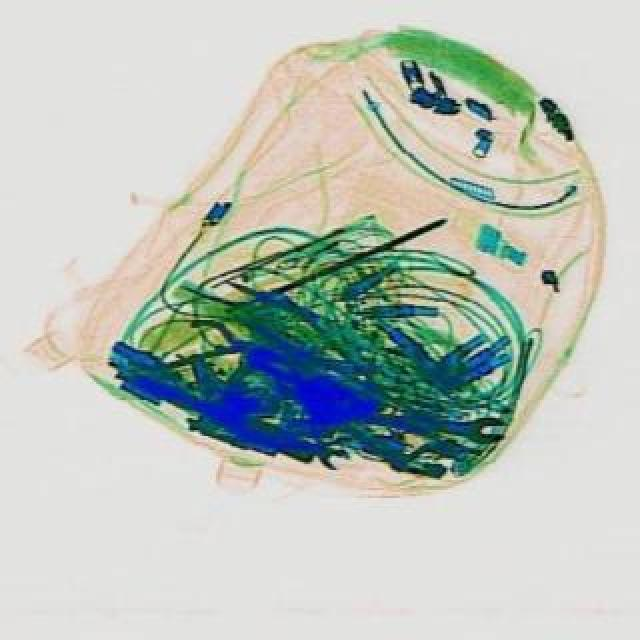scissors: (206, 402, 350, 474), (374, 404, 502, 442)
wrench: (156, 316, 256, 372)
